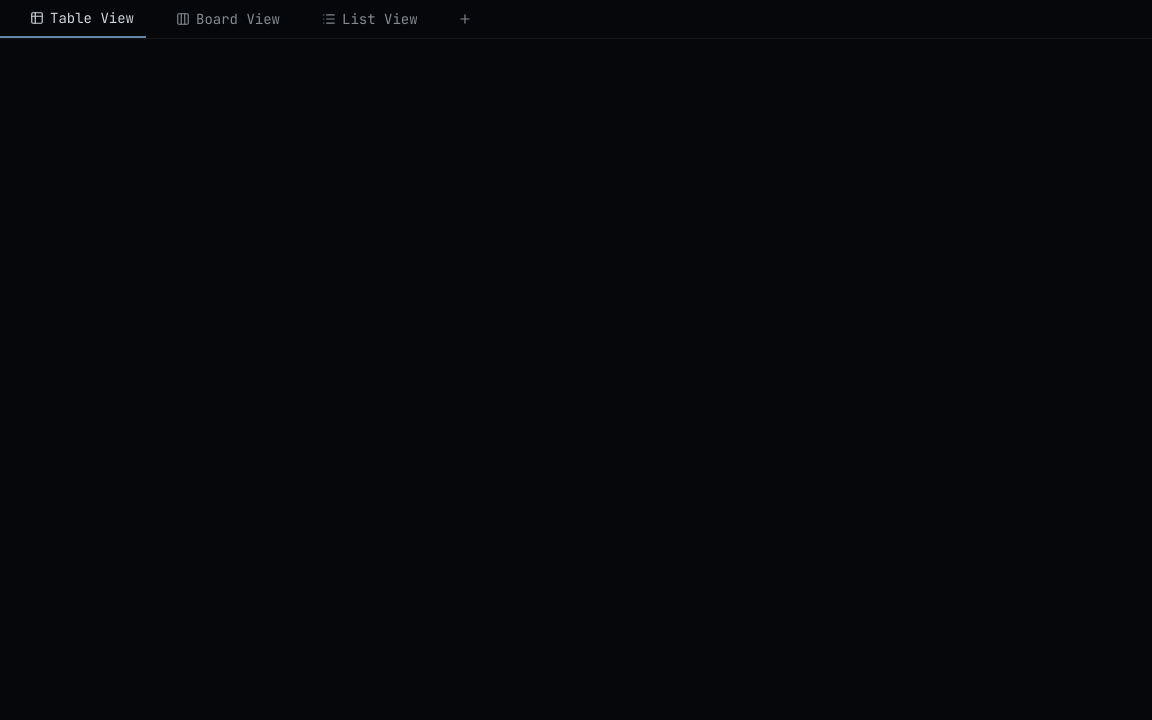
ViewTabs — context menu › context menu Delete opens confirmation dialog
This screenshot has width=1152, height=720.
Right-click the tab "Board View" at (219, 19), box [146,1,292,37]
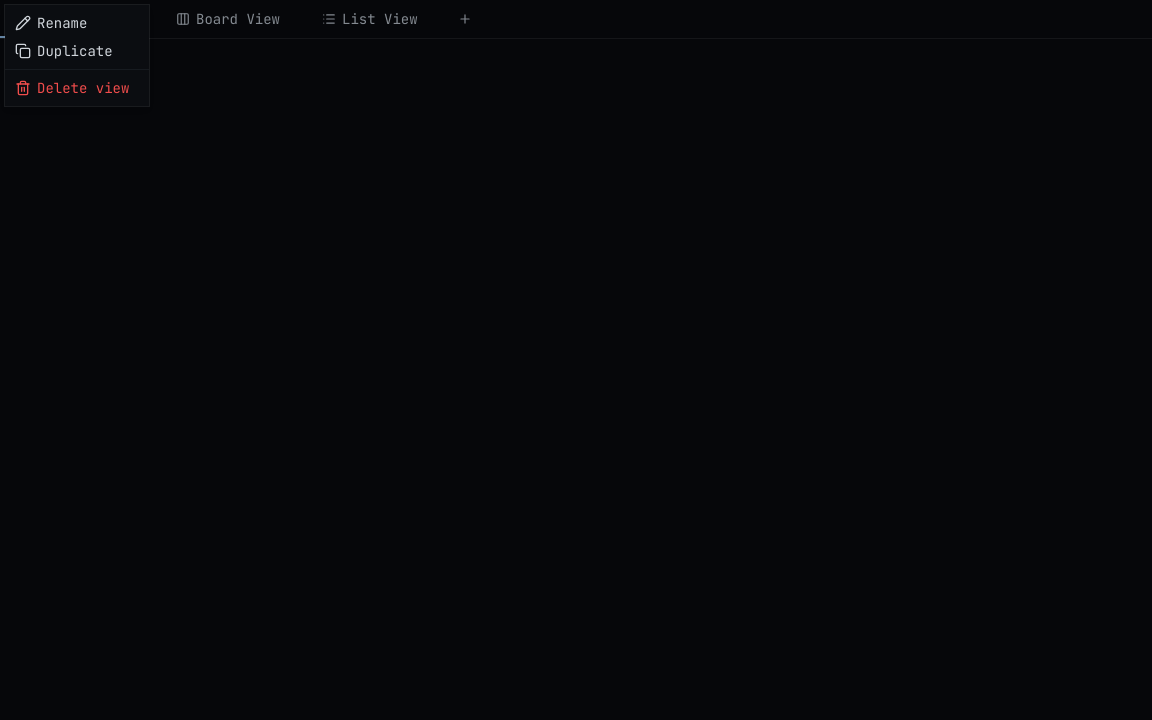
Click the menu item "Delete view". click: click(72, 88)
box: [15,79,129,97]
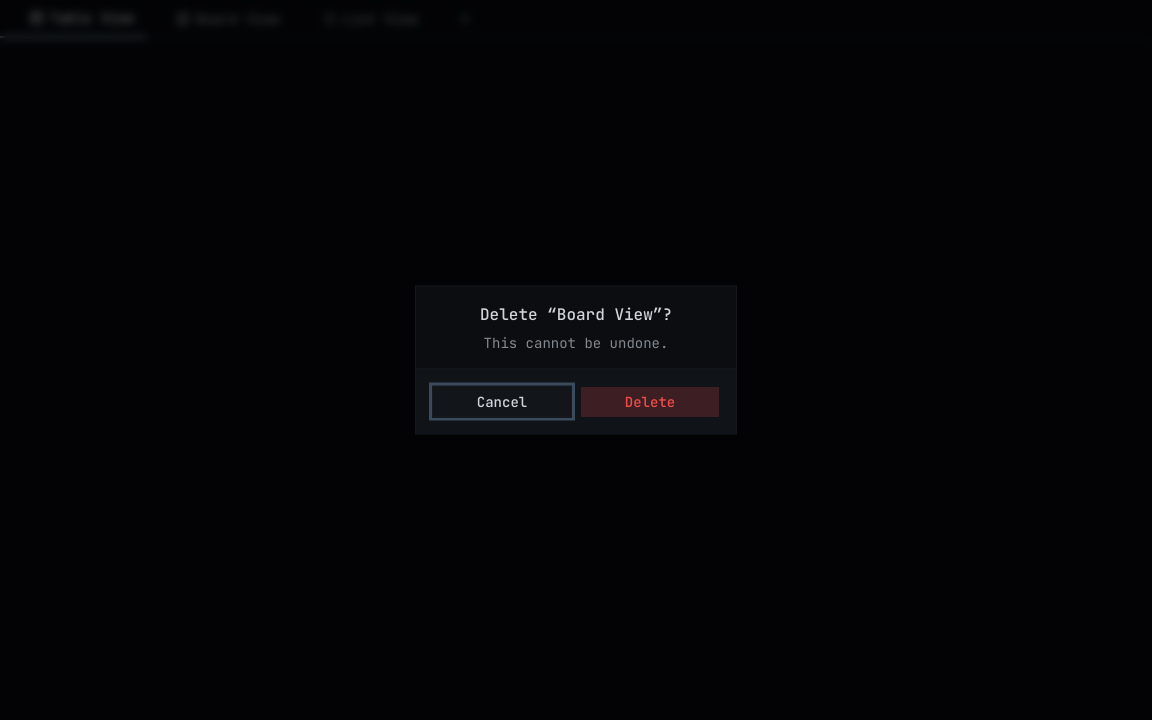
Result: the dialog is shown at [416,286,736,434]
Result: the heading "Delete “Board View”?" is shown at [480,302,672,326]
